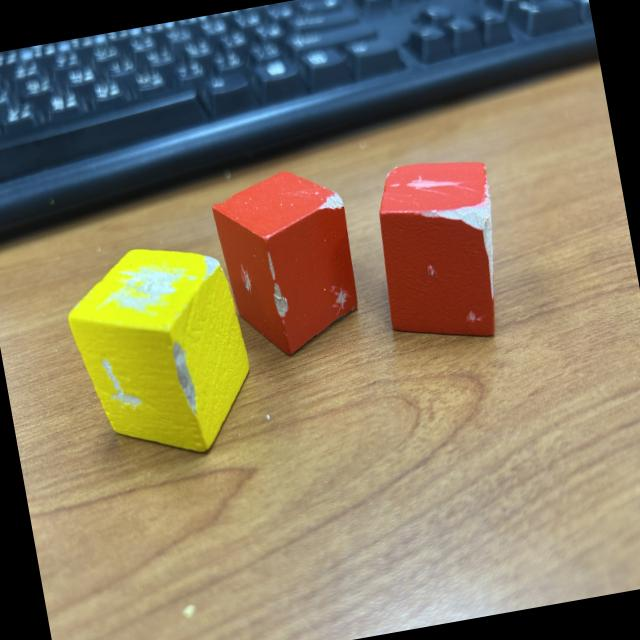broken: (57, 232, 263, 473), (208, 162, 368, 365), (365, 151, 514, 352)
